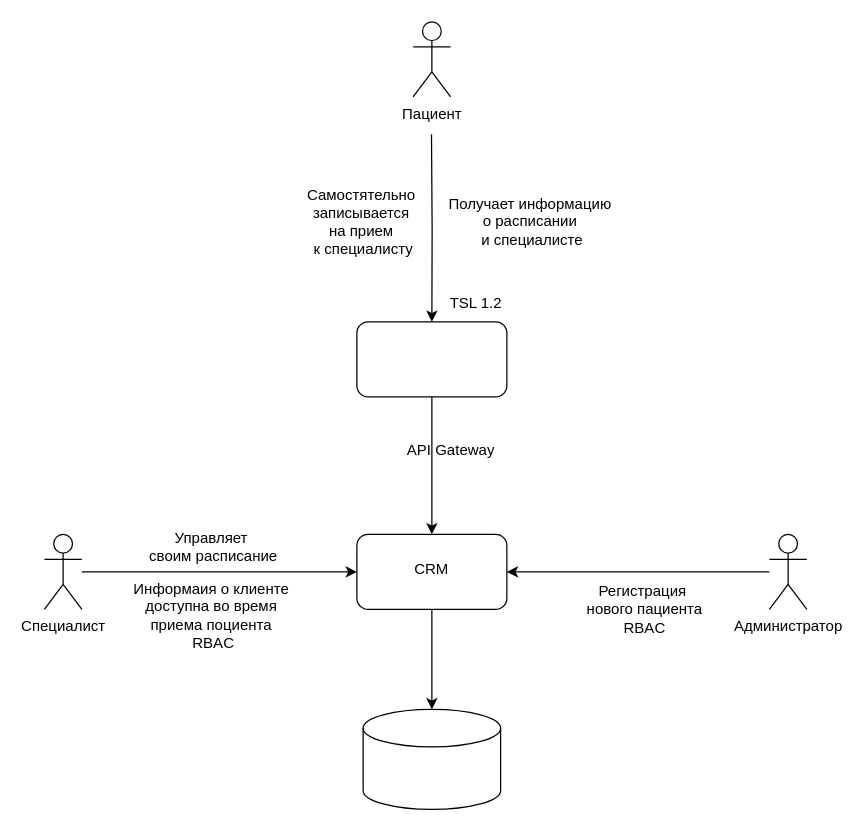
The diagram is 864 pixels wide and 831 high, and some of its shapes have lost their labels. The centre of each missing label's shape, as x and y in pixels:
"База CRM" goes at [431,758].
"Портал" goes at [431,359].
